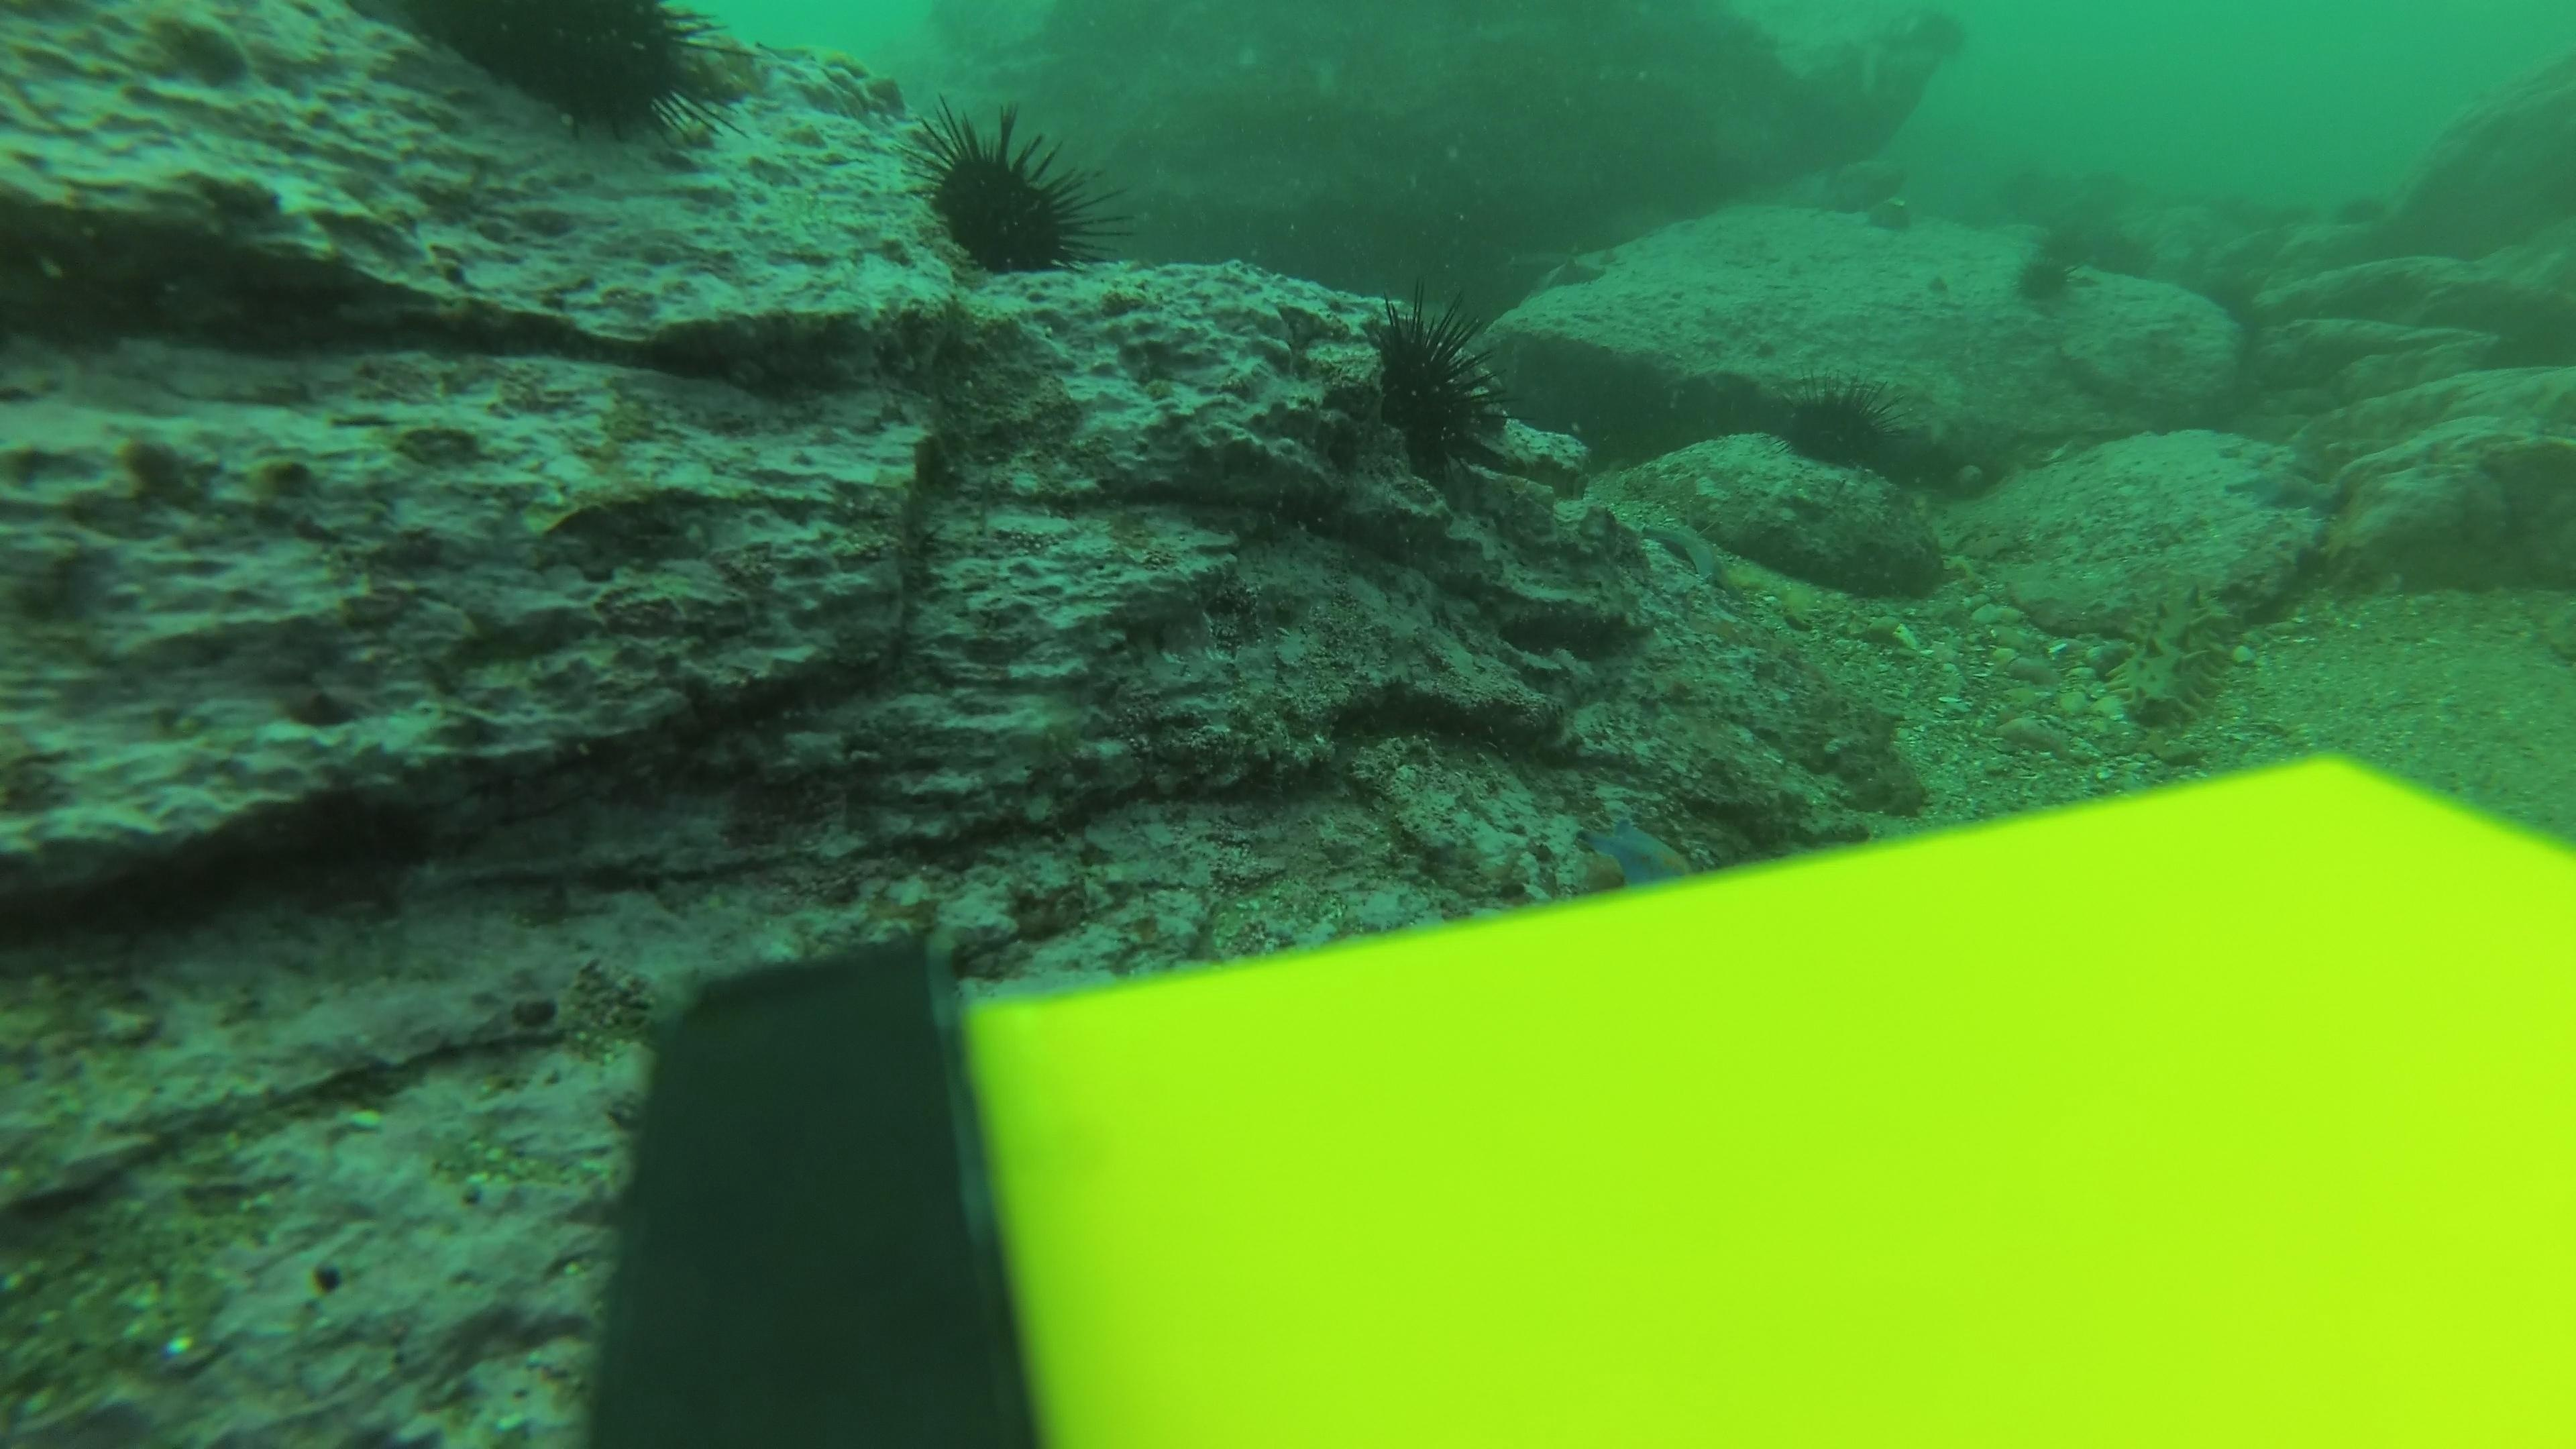echinus: (403, 4, 731, 152), (902, 101, 1116, 285), (1355, 292, 1520, 497), (1775, 380, 1898, 478), (2005, 235, 2093, 315)
holothurian: (2111, 571, 2249, 738)
starfish: (741, 35, 913, 120), (1624, 499, 1757, 600), (1575, 805, 1704, 885), (2220, 455, 2342, 517), (1529, 241, 1619, 297)
